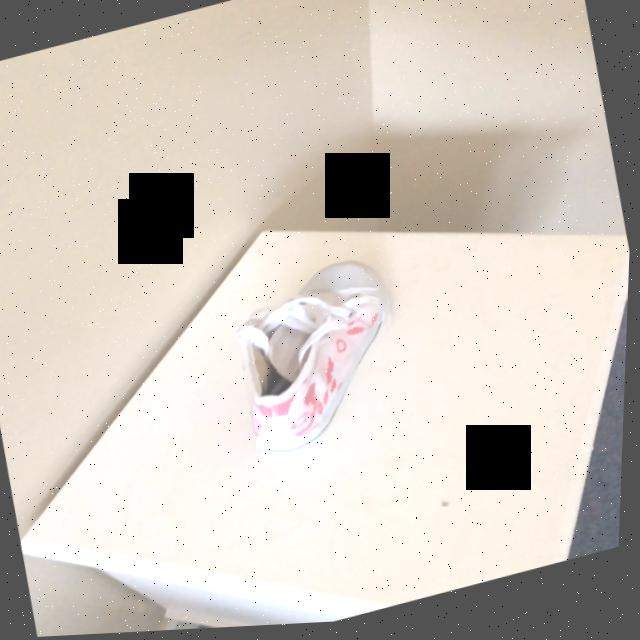shoe: (238, 263, 393, 460)
